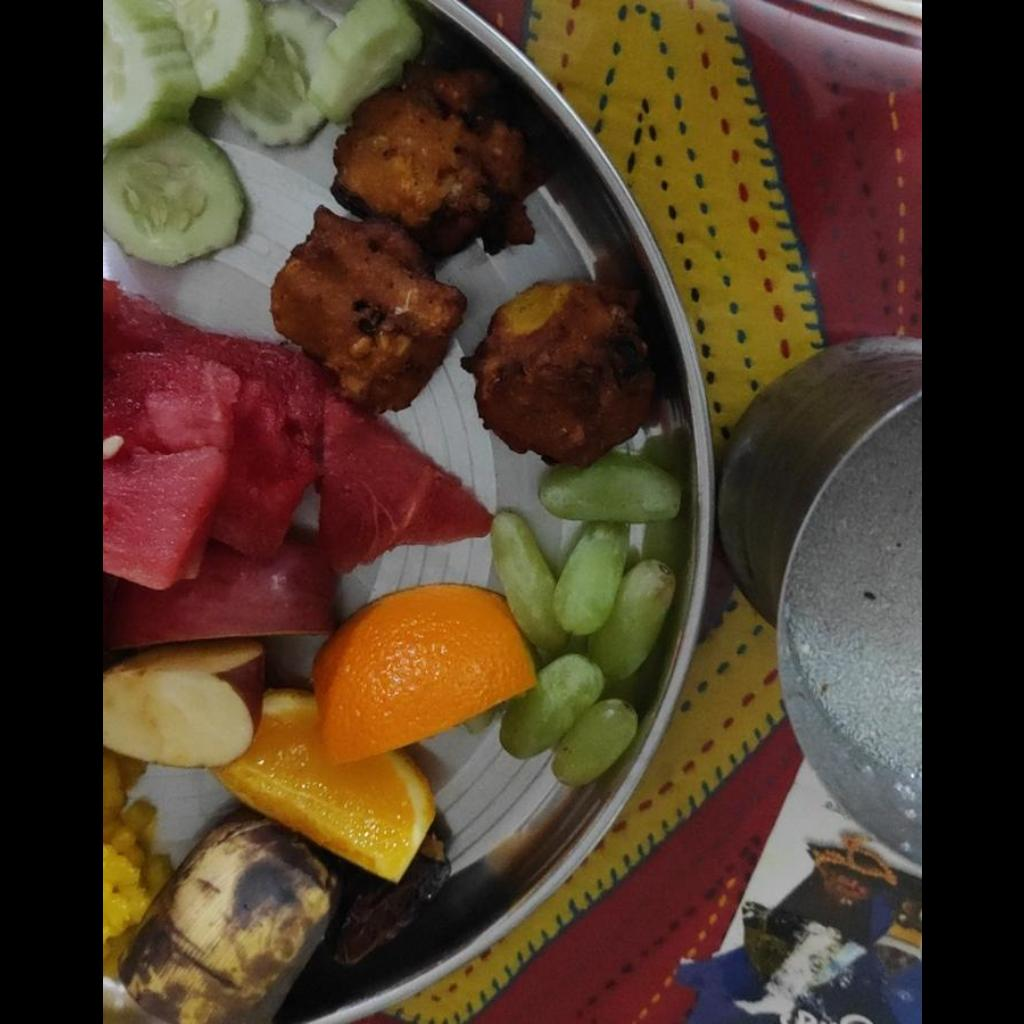apple: (107, 535, 328, 766)
banana: (119, 820, 340, 1022)
cucumber: (102, 0, 419, 261)
grapes: (497, 462, 682, 777)
juice: (778, 396, 920, 798)
orange: (210, 578, 530, 887)
peyaju: (273, 90, 651, 468)
watermelon: (102, 277, 493, 581)
